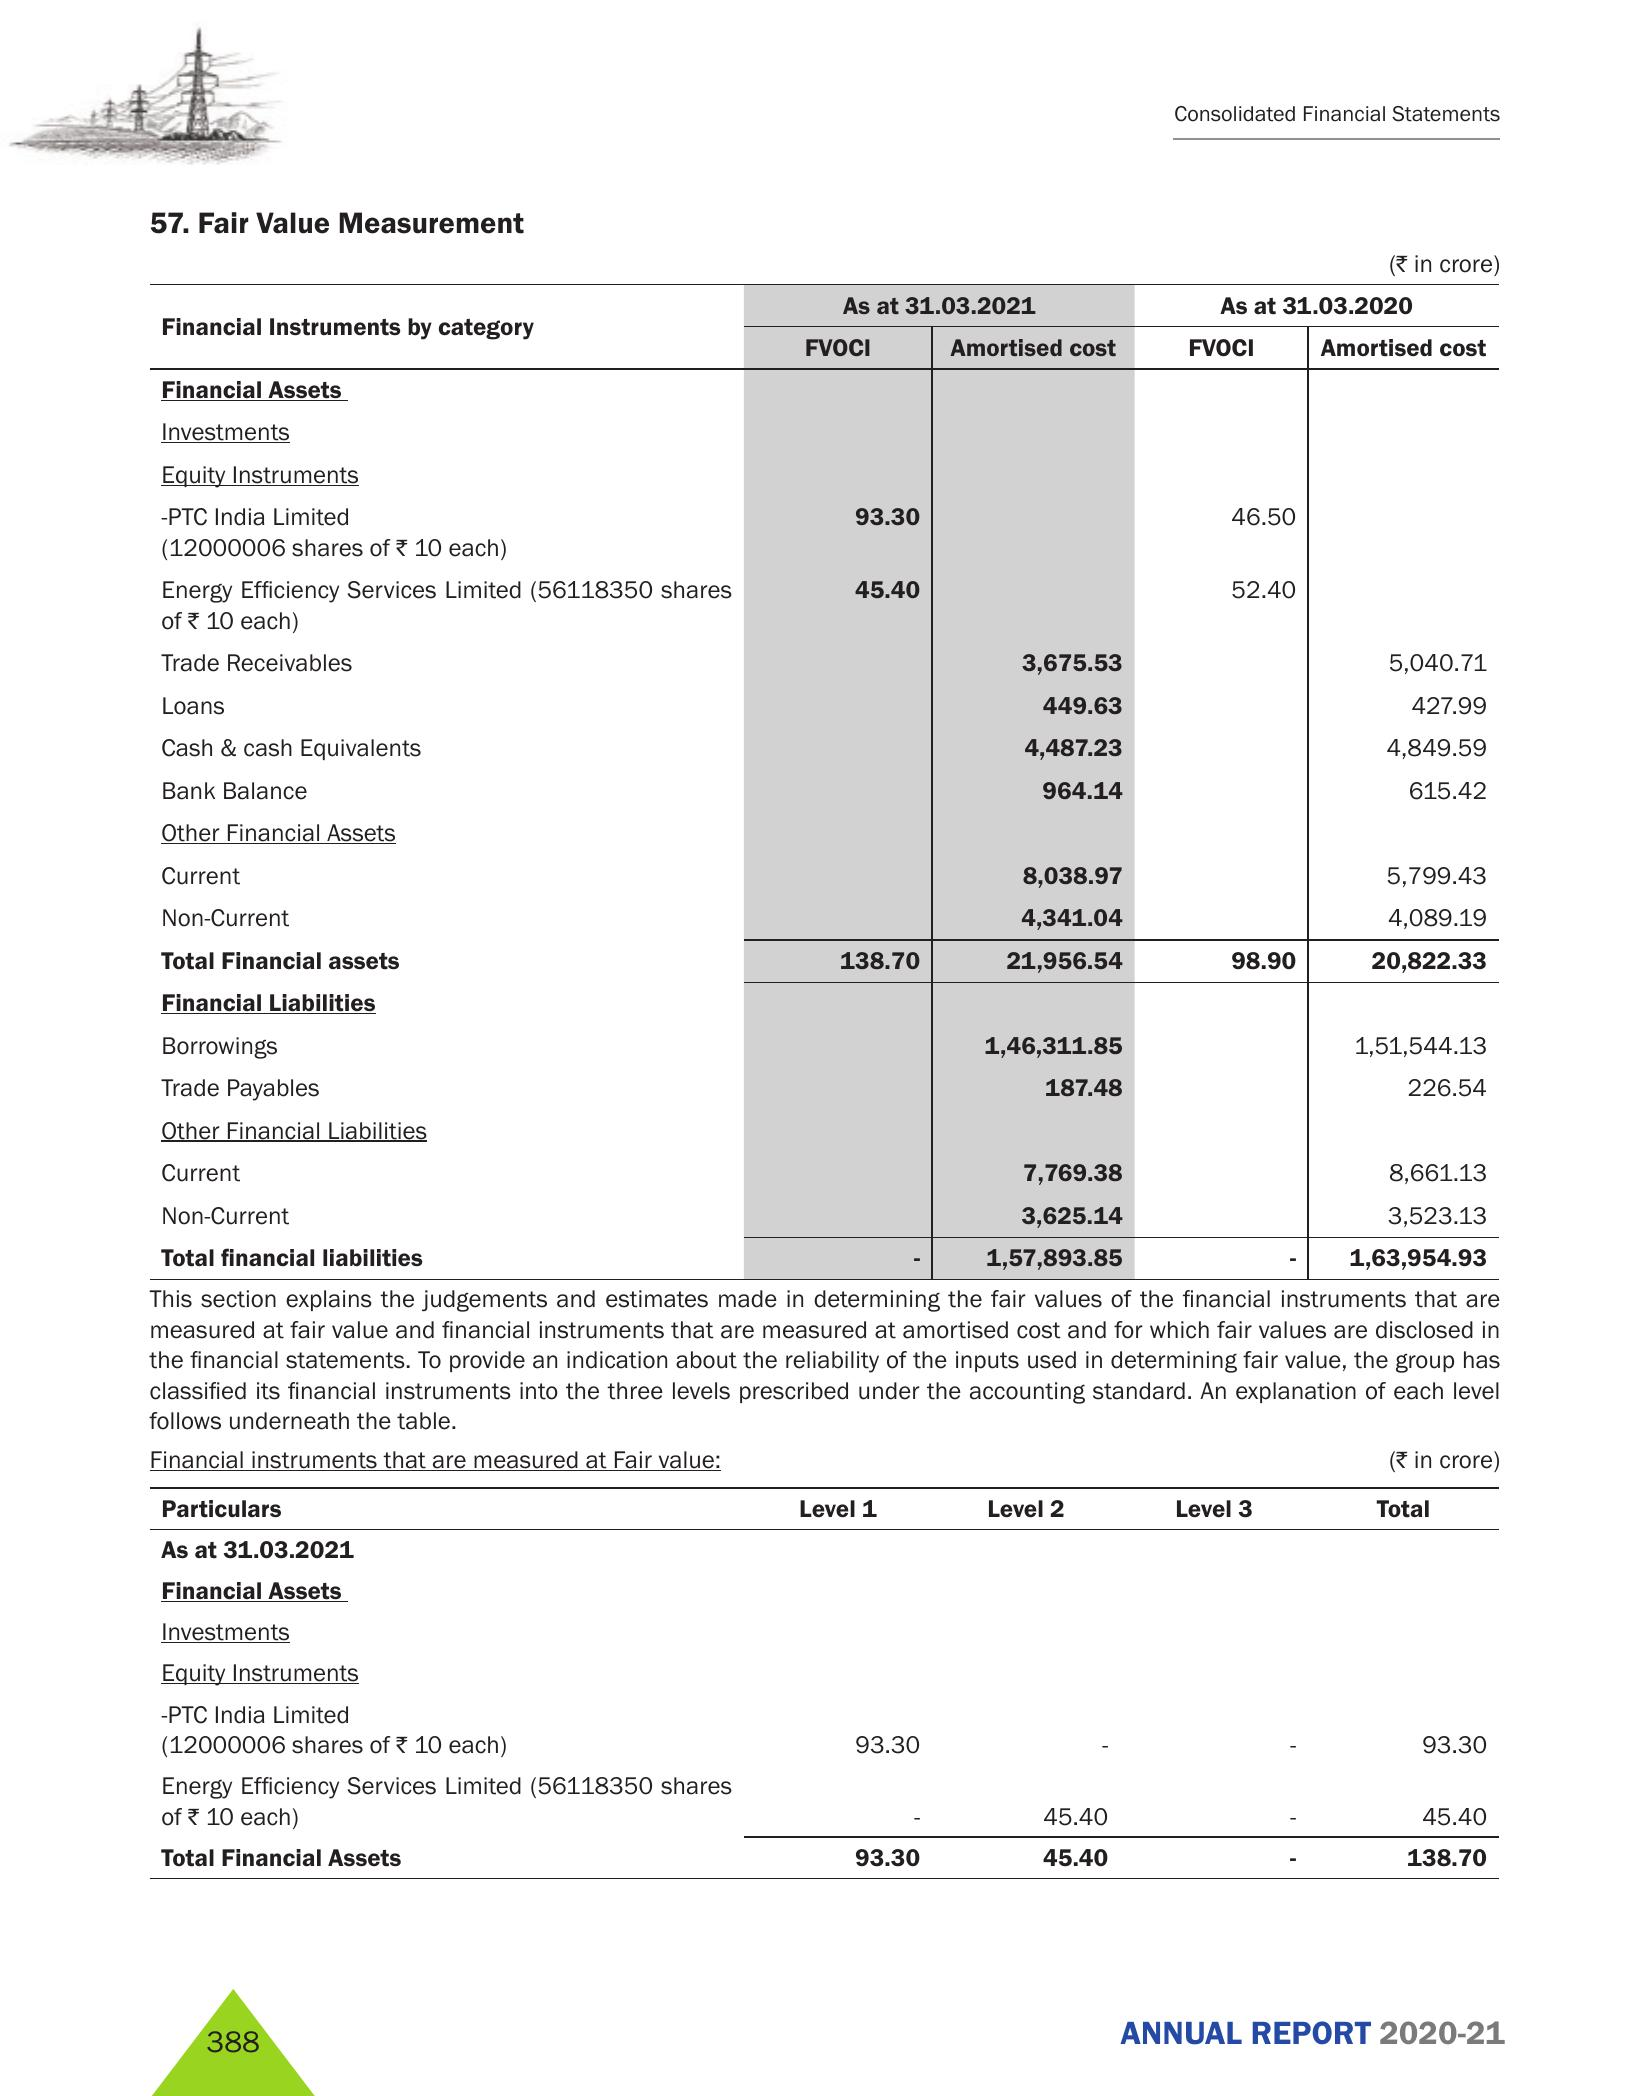Footer: (0, 1962, 1650, 2096)
Header: (0, 0, 1650, 175)
Table: (139, 274, 1507, 1286), (143, 1478, 1528, 1875)
